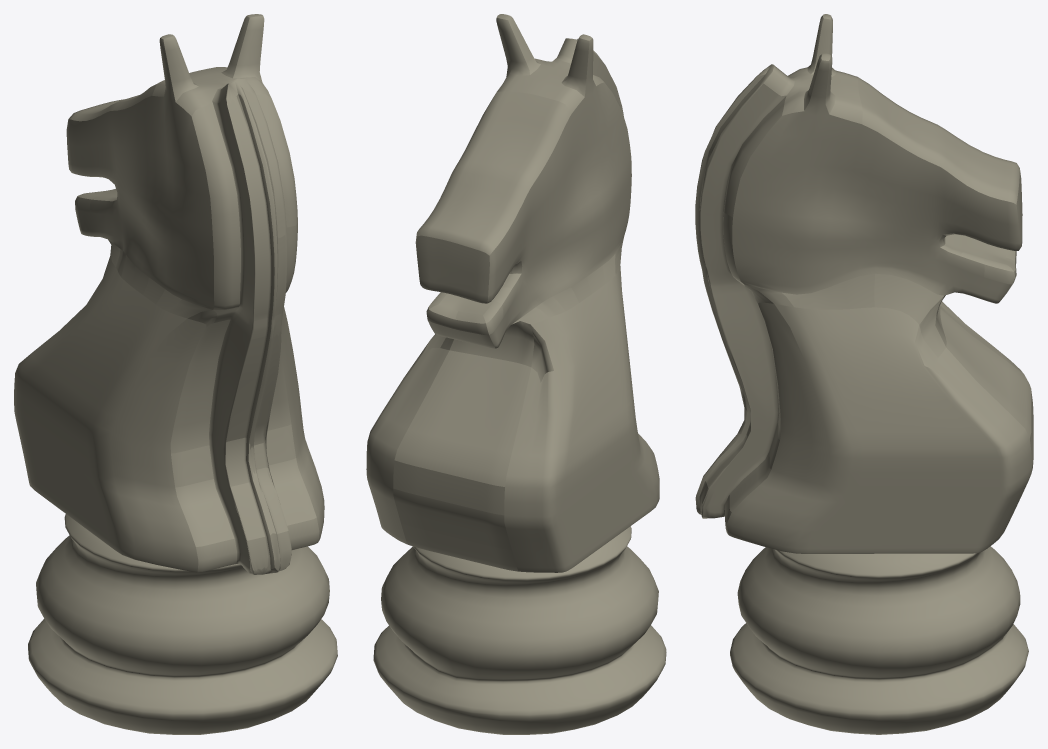
File: klasikset_n_w.glb
3 views of the same model, side by side, from view 1: azimuth 30°, elevation 25°; view 2: azimuth 150°, elevation 25°; view 3: azimuth 270°, elevation 25° (orthographic). The views are drawn at different scales.
Parts seen in each view (by area): view 1: pPlane13_36; view 2: pPlane13_36; view 3: pPlane13_36.
Boxes of the visible parts, bbox=[...] form: pPlane13_36: bbox=[14, 14, 337, 734]; pPlane13_36: bbox=[366, 14, 666, 734]; pPlane13_36: bbox=[695, 14, 1033, 734].
Size of the model in its own units: 1.27 by 3.04 by 1.44.
